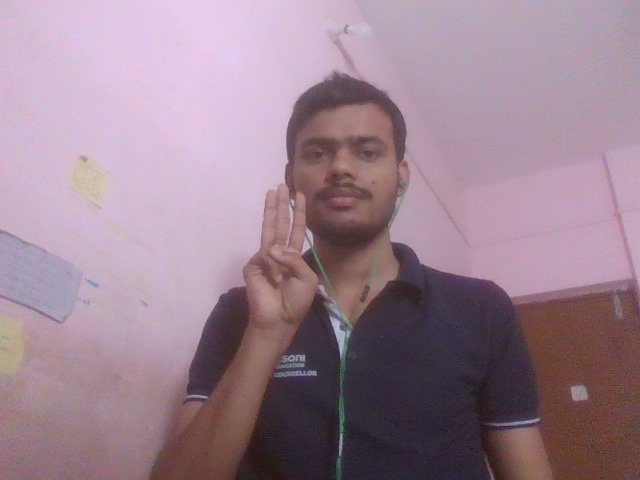Water: (219, 164, 396, 464)
